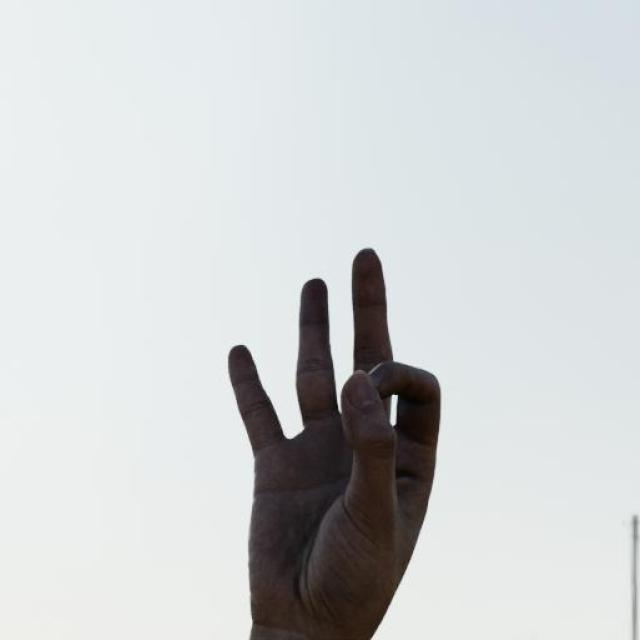F: (225, 245, 444, 640)
